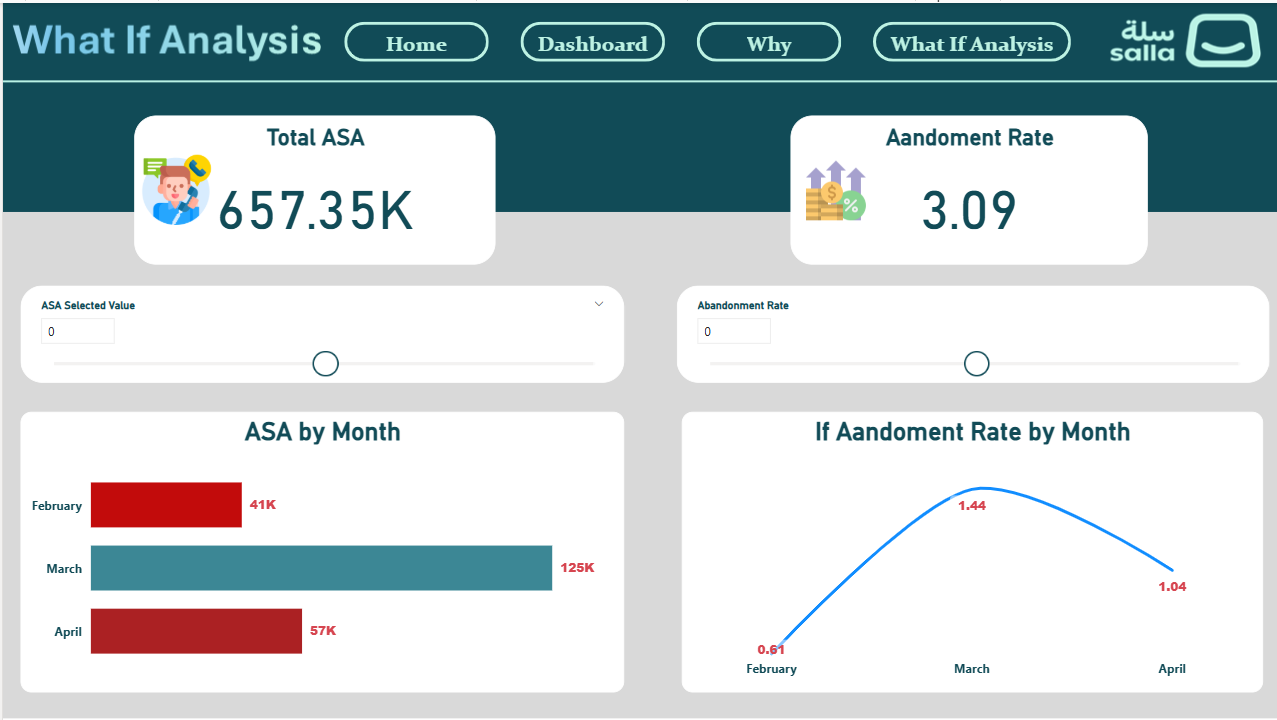

Layout of this report page (visuals, bound fields, positions):
{"tool":"powerbi","page":{"name":"What If Analysis","canvas":[1280,720],"ordinal":3},"visuals":[{"type":"actionButton","box":[519.7,19.2,145.2,40.2],"z":0},{"type":"actionButton","box":[342.9,19.2,145.2,40.2],"z":1000},{"type":"actionButton","box":[696.5,19.2,145.2,40.2],"z":2000},{"type":"actionButton","box":[873.3,19.2,198.8,40.2],"z":3000},{"type":"clusteredBarChart","title":"ASA by Month","fields":{"Category":["Dates.Date.Variation.Date Hierarchy.Month"],"Y":["ASA Selected Value.ASA IF"]},"box":[17.9,409.8,605.2,281.4],"z":4000},{"type":"lineChart","fields":{"Category":["Dates.Date.Variation.Date Hierarchy.Month"],"Y":["ASA Selected Value.If Aandoment Rate"]},"box":[681.1,409.8,582.9,281.4],"z":5000},{"type":"slicer","title":"+ ASA","fields":{"Values":["ASA Selected Value.ASA Selected Value"]},"box":[17.6,283.4,605.6,97.8],"z":6000},{"type":"slicer","fields":{"Values":["Abandonment Rate.Abandonment Rate"]},"box":[675.9,283.4,594.4,97.8],"z":7000},{"type":"card","title":"Total ASA","fields":{"Values":["ASA Selected Value.ASA IF"]},"box":[131.7,112.9,362.4,149.2],"z":7002},{"type":"card","title":"Aandoment Rate","fields":{"Values":["ASA Selected Value.If Aandoment Rate"]},"box":[790,112.9,358.6,149.2],"z":7003},{"type":"image","box":[134.2,144.2,80.3,86.5],"z":7004},{"type":"image","box":[798.7,150.5,74,75.2],"z":7005}]}

Visuals, with their boxes in screenshot pixels (x1, y1, x2, y2), scaled from the page's 1280x720 canvas onto the 1277x720 screenshot:
actionButton: pyautogui.locateOnScreen(518, 19, 663, 59)
actionButton: pyautogui.locateOnScreen(342, 19, 487, 59)
actionButton: pyautogui.locateOnScreen(695, 19, 840, 59)
actionButton: pyautogui.locateOnScreen(871, 19, 1070, 59)
"ASA by Month" clusteredBarChart: pyautogui.locateOnScreen(18, 410, 622, 691)
lineChart - Dates.Date.Variation.Date Hierarchy.Month x ASA Selected Value.If Aandoment Rate: pyautogui.locateOnScreen(680, 410, 1261, 691)
"+ ASA" slicer: pyautogui.locateOnScreen(18, 283, 622, 381)
slicer - Abandonment Rate.Abandonment Rate: pyautogui.locateOnScreen(674, 283, 1267, 381)
"Total ASA" card: pyautogui.locateOnScreen(131, 113, 493, 262)
"Aandoment Rate" card: pyautogui.locateOnScreen(788, 113, 1146, 262)
image: pyautogui.locateOnScreen(134, 144, 214, 231)
image: pyautogui.locateOnScreen(797, 150, 871, 226)
